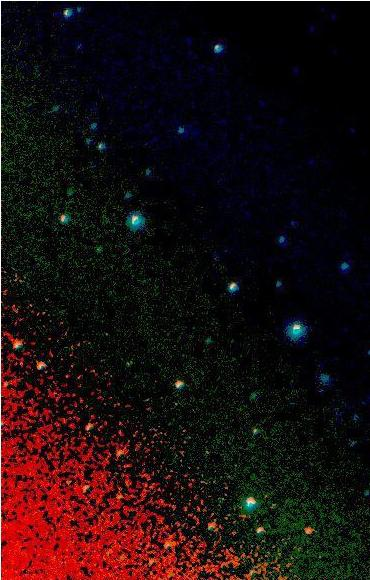star: (288, 515, 318, 545)
